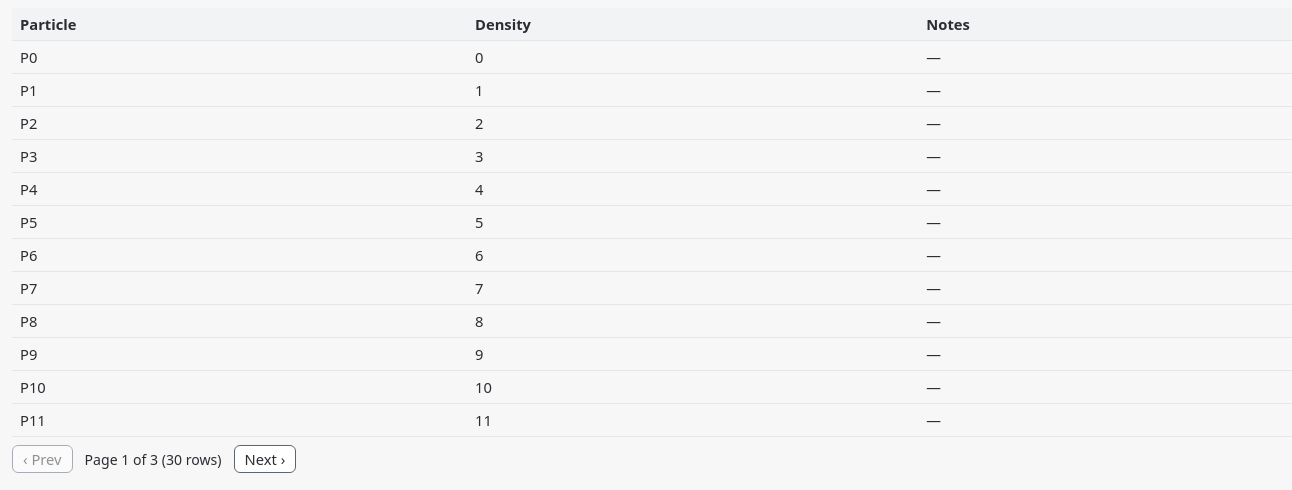
Test case: DataTable › pages long tables
The width and height of the screenshot is (1292, 490).
Expected: the text "Page 1 of 3 (30 rows)" is shown, [85, 450, 222, 468]
Click the button "Next ›" at (265, 459), box [234, 445, 296, 473]
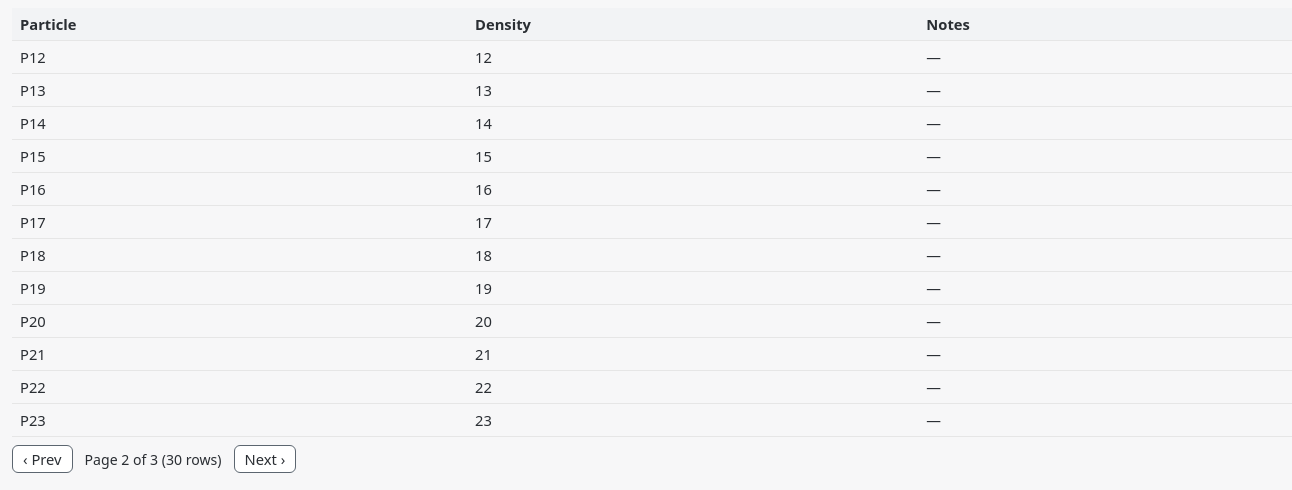
Expected: the cell "P12" is shown, [12, 40, 467, 74]
